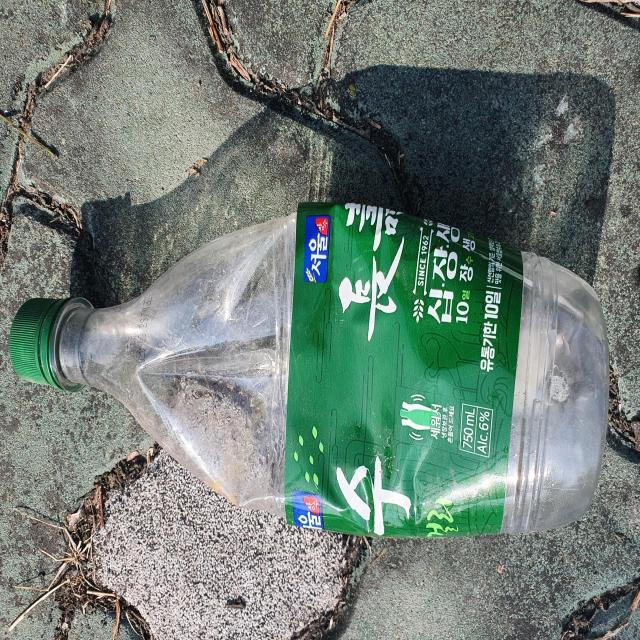plastic: (9, 202, 609, 538)
